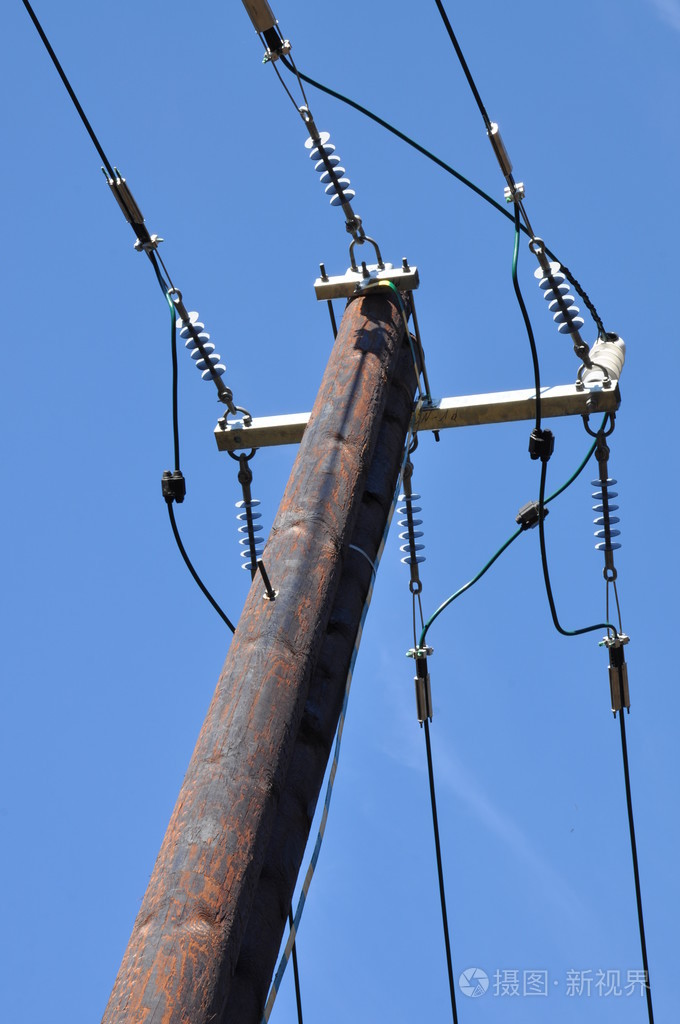insulator: (303, 129, 357, 206), (532, 262, 585, 335), (175, 311, 228, 383), (590, 456, 623, 551), (393, 488, 425, 564), (235, 497, 263, 571)
